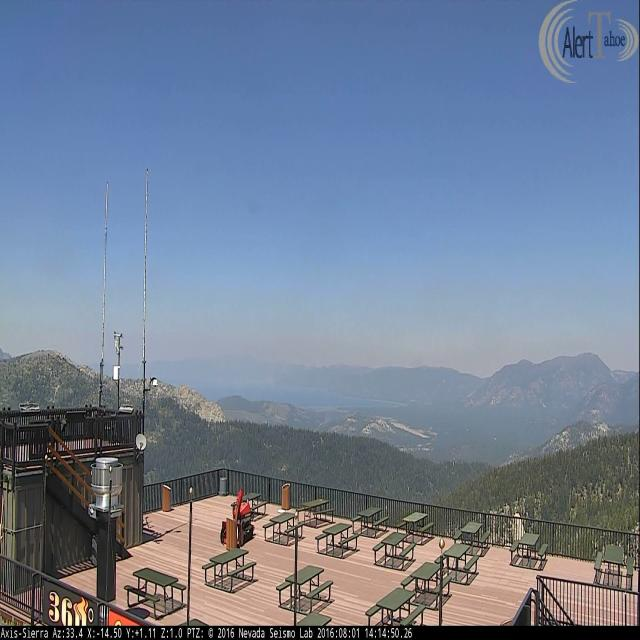smoke: (322, 416, 330, 424)
